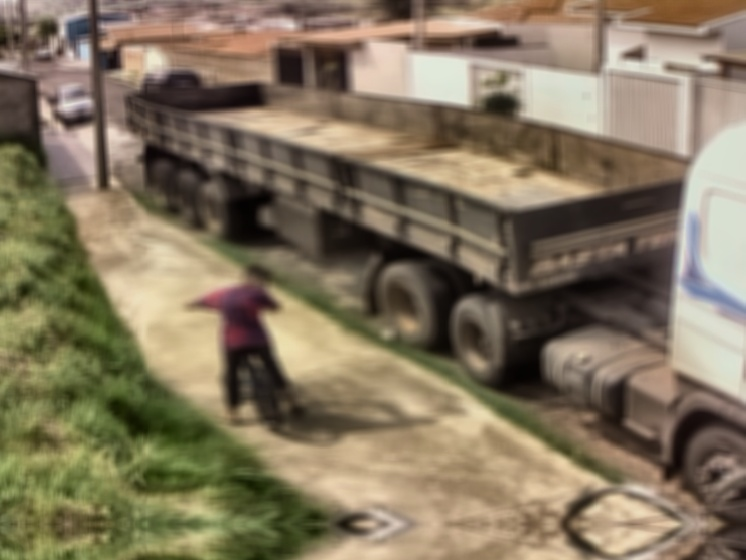person: (177, 264, 310, 432)
